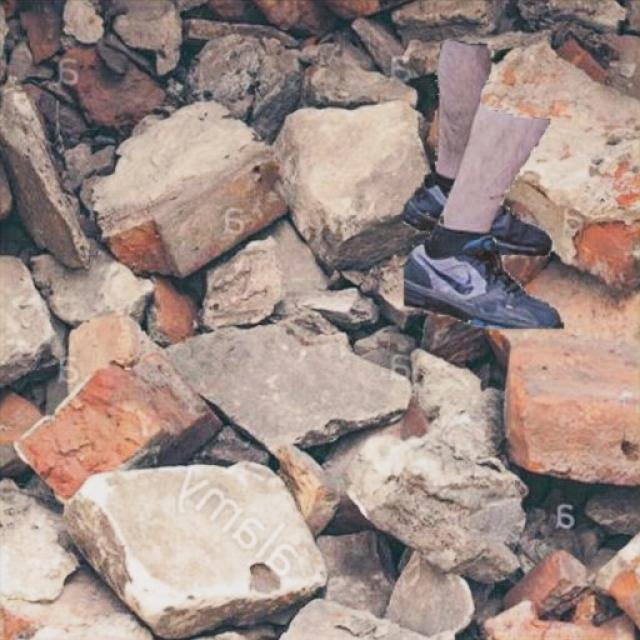Person in Rubble: (403, 41, 562, 328)
